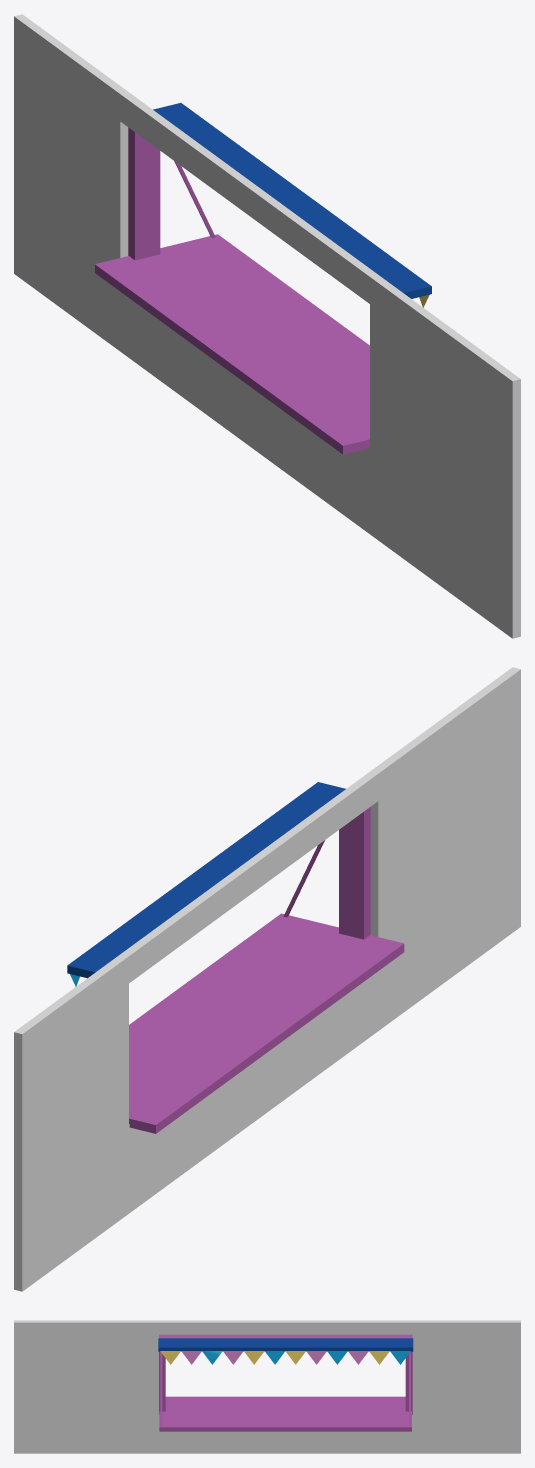
Rendered from f_window_test.fbx.
3 views of the same model, one above another, from view 1: azimuth 30°, elevation 25°; view 2: azimuth 150°, elevation 25°; view 3: azimuth 270°, elevation 25° (orthographic). The views are drawn at different scales.
Parts seen in each view (by area): view 1: WallWithWindow, f_window; view 2: WallWithWindow, f_window; view 3: WallWithWindow, f_window.
Boxes of the visible parts, x1,y1,x2,y2 form: WallWithWindow: (14,14,520,638); f_window: (95,103,431,454); WallWithWindow: (14,667,520,1291); f_window: (67,782,404,1133); WallWithWindow: (14,1320,520,1453); f_window: (158,1334,413,1431).
Bounding box in the file's own units: 957 × 136 × 273.
